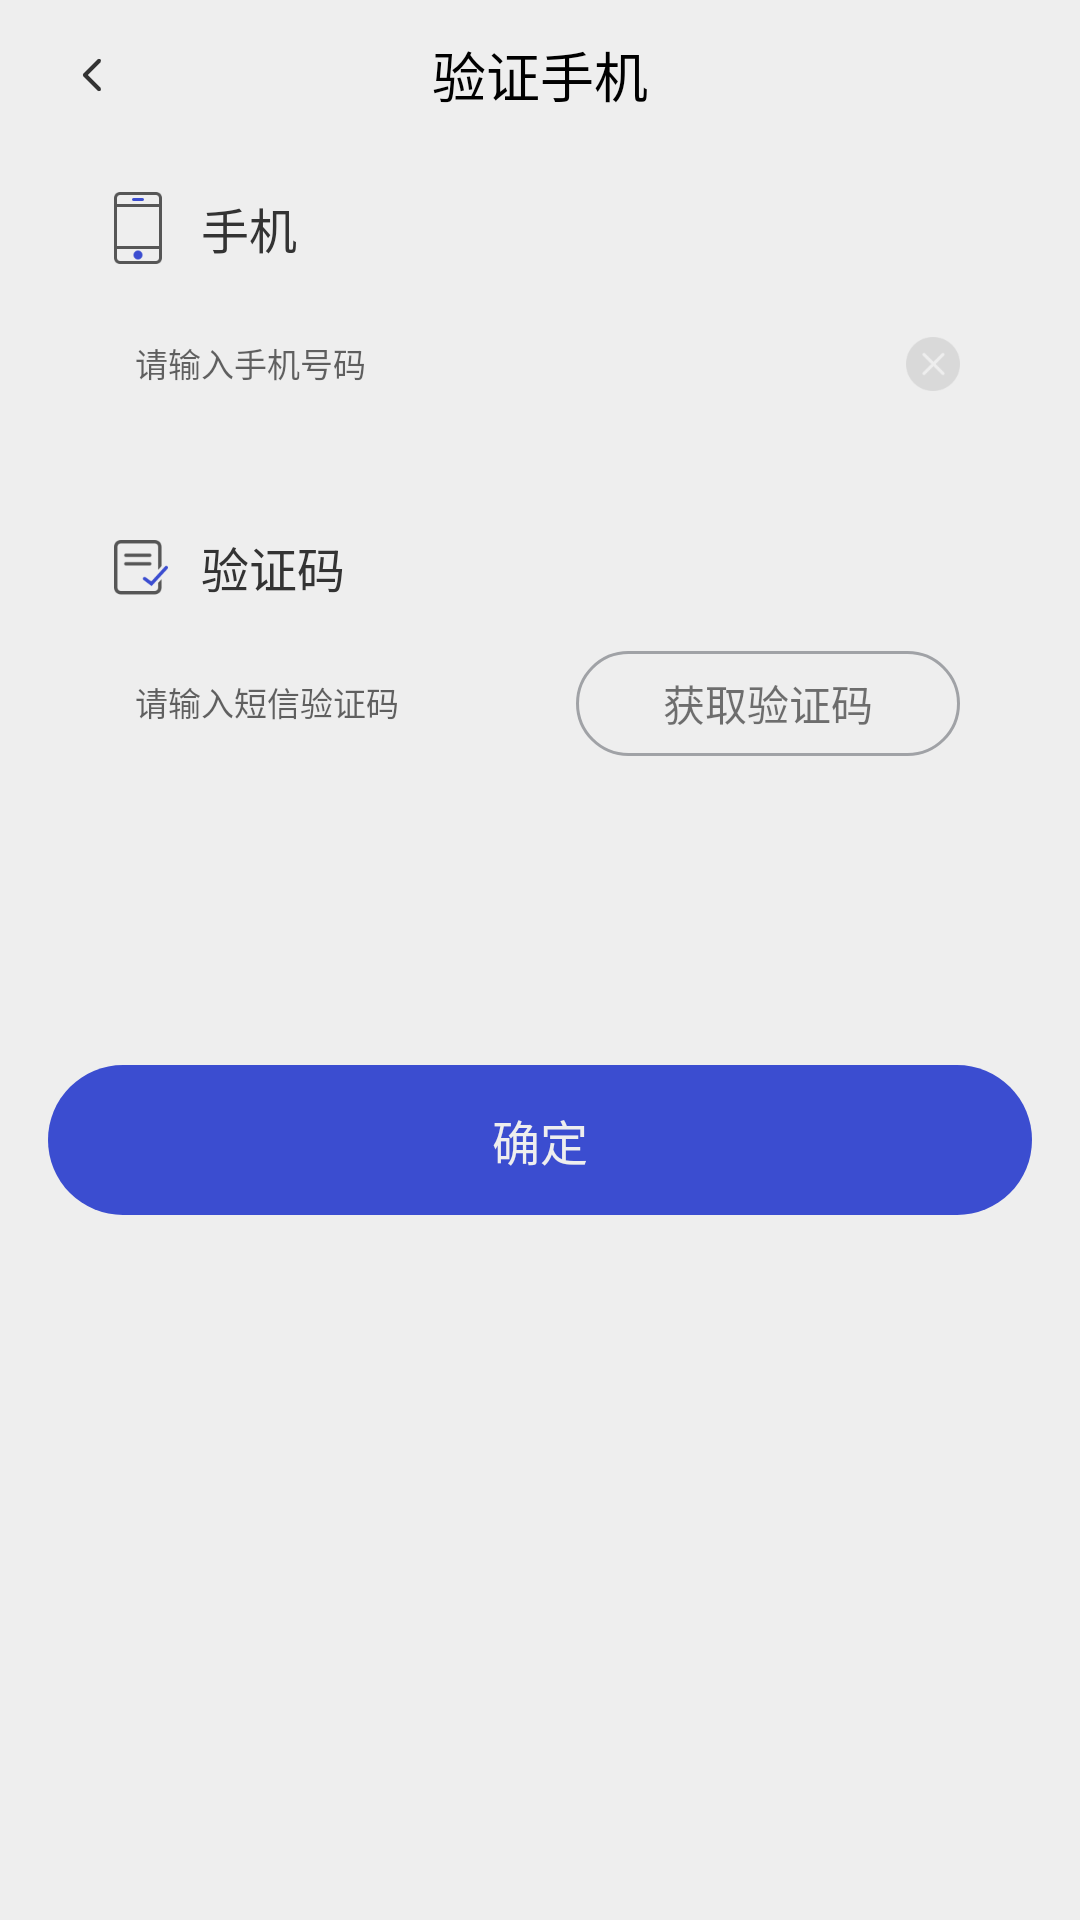

Where icons sit on this 1080px×1920px app screen, as (x1, y1, x2, y2):
back: (83, 59, 101, 91)
